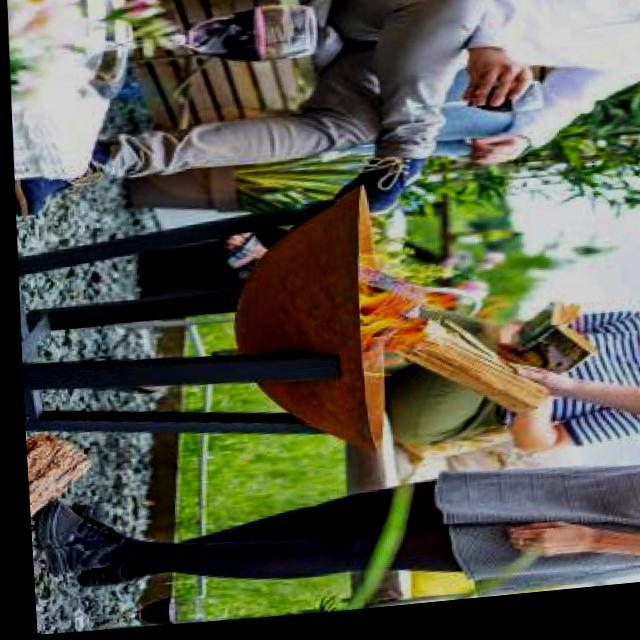helmet: (330, 249, 451, 358)
